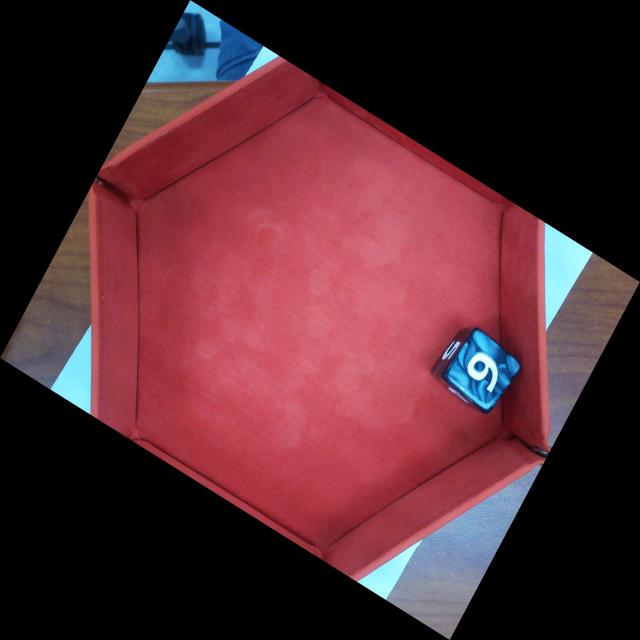dice: (453, 335, 519, 412)
